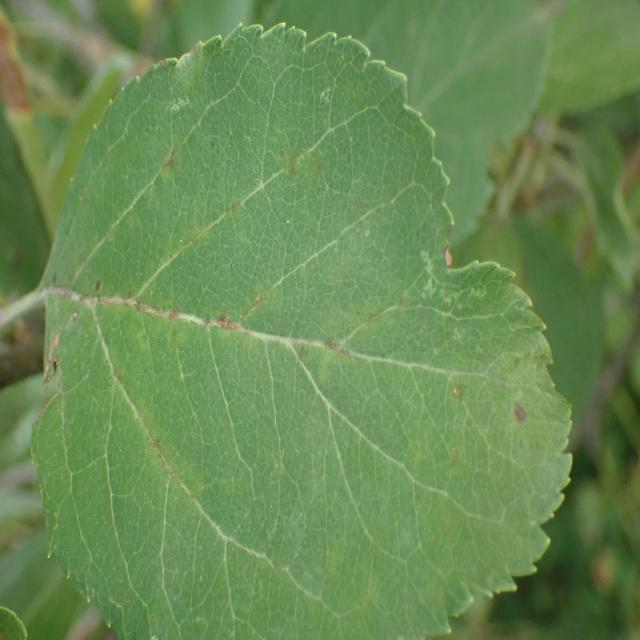scab: (53, 50, 560, 612)
